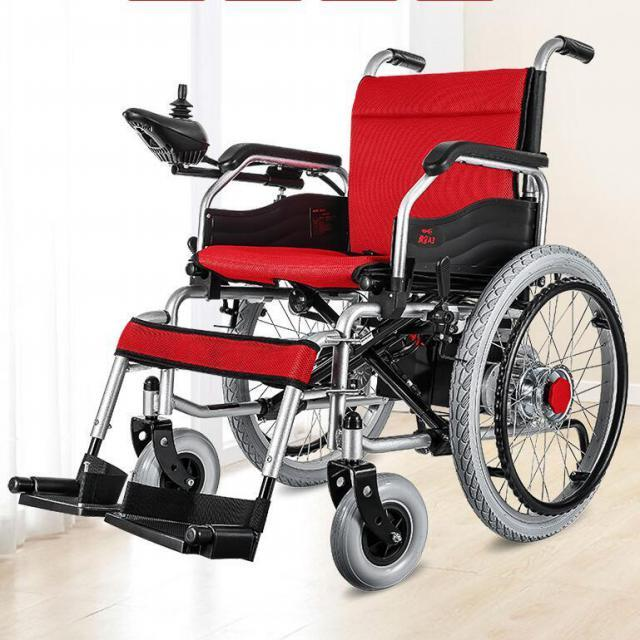wheelchair: (0, 22, 634, 581)
